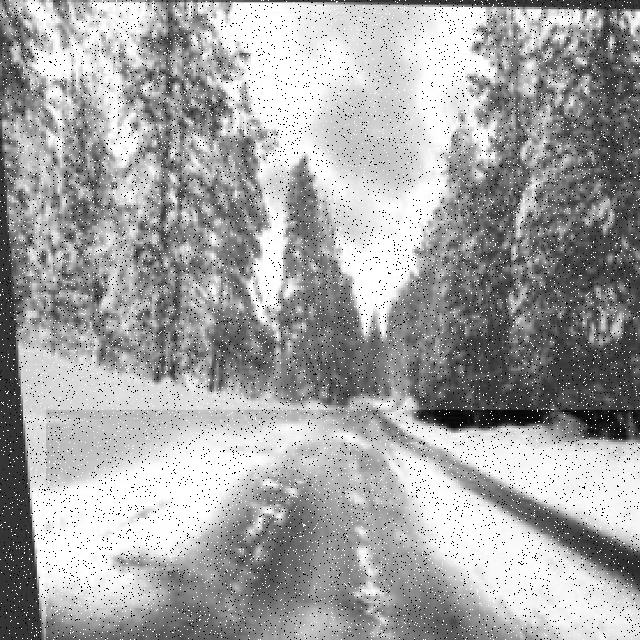ice-road: (47, 410, 640, 640)
